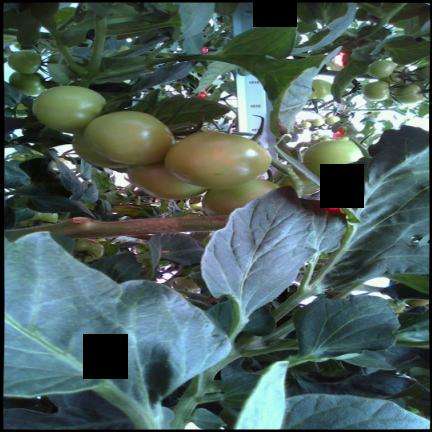MainStem: (3, 216, 226, 241)
tomato: (165, 131, 270, 189), (83, 111, 174, 164), (32, 86, 106, 133), (127, 162, 206, 199), (202, 178, 278, 216), (303, 140, 362, 178), (72, 135, 127, 168), (8, 51, 44, 95), (8, 51, 41, 73), (74, 239, 103, 262), (391, 85, 423, 104), (16, 211, 58, 225), (381, 66, 408, 85), (363, 81, 389, 100), (369, 60, 396, 78), (310, 80, 330, 99), (174, 276, 199, 291), (414, 66, 429, 80), (325, 116, 339, 124), (311, 118, 324, 126), (298, 122, 310, 128), (320, 137, 331, 141), (311, 135, 318, 140)
